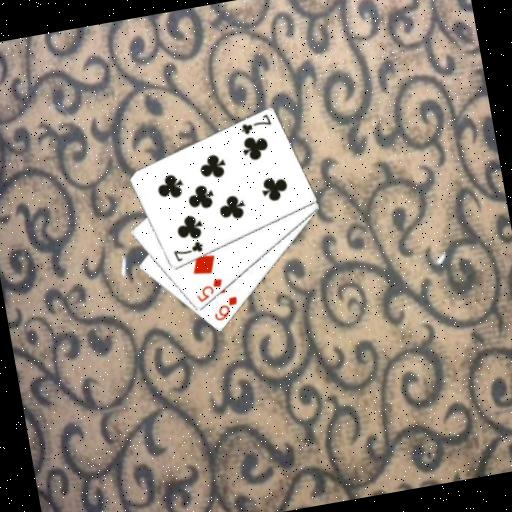5D: (190, 275, 226, 305)
6D: (208, 293, 242, 323)
7C: (236, 110, 274, 137), (169, 237, 206, 264)
